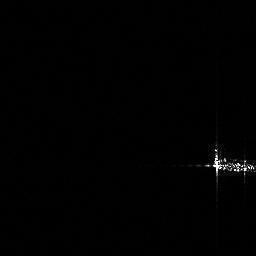ship: (205, 145, 256, 183)
